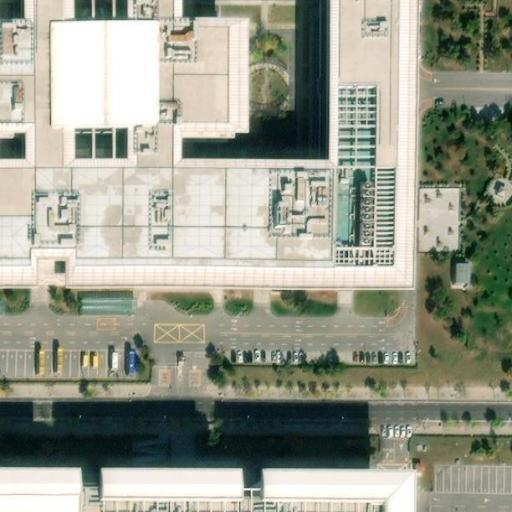building: (264, 466, 416, 511), (101, 465, 242, 501), (0, 464, 83, 511), (415, 182, 462, 250), (449, 258, 469, 284)
